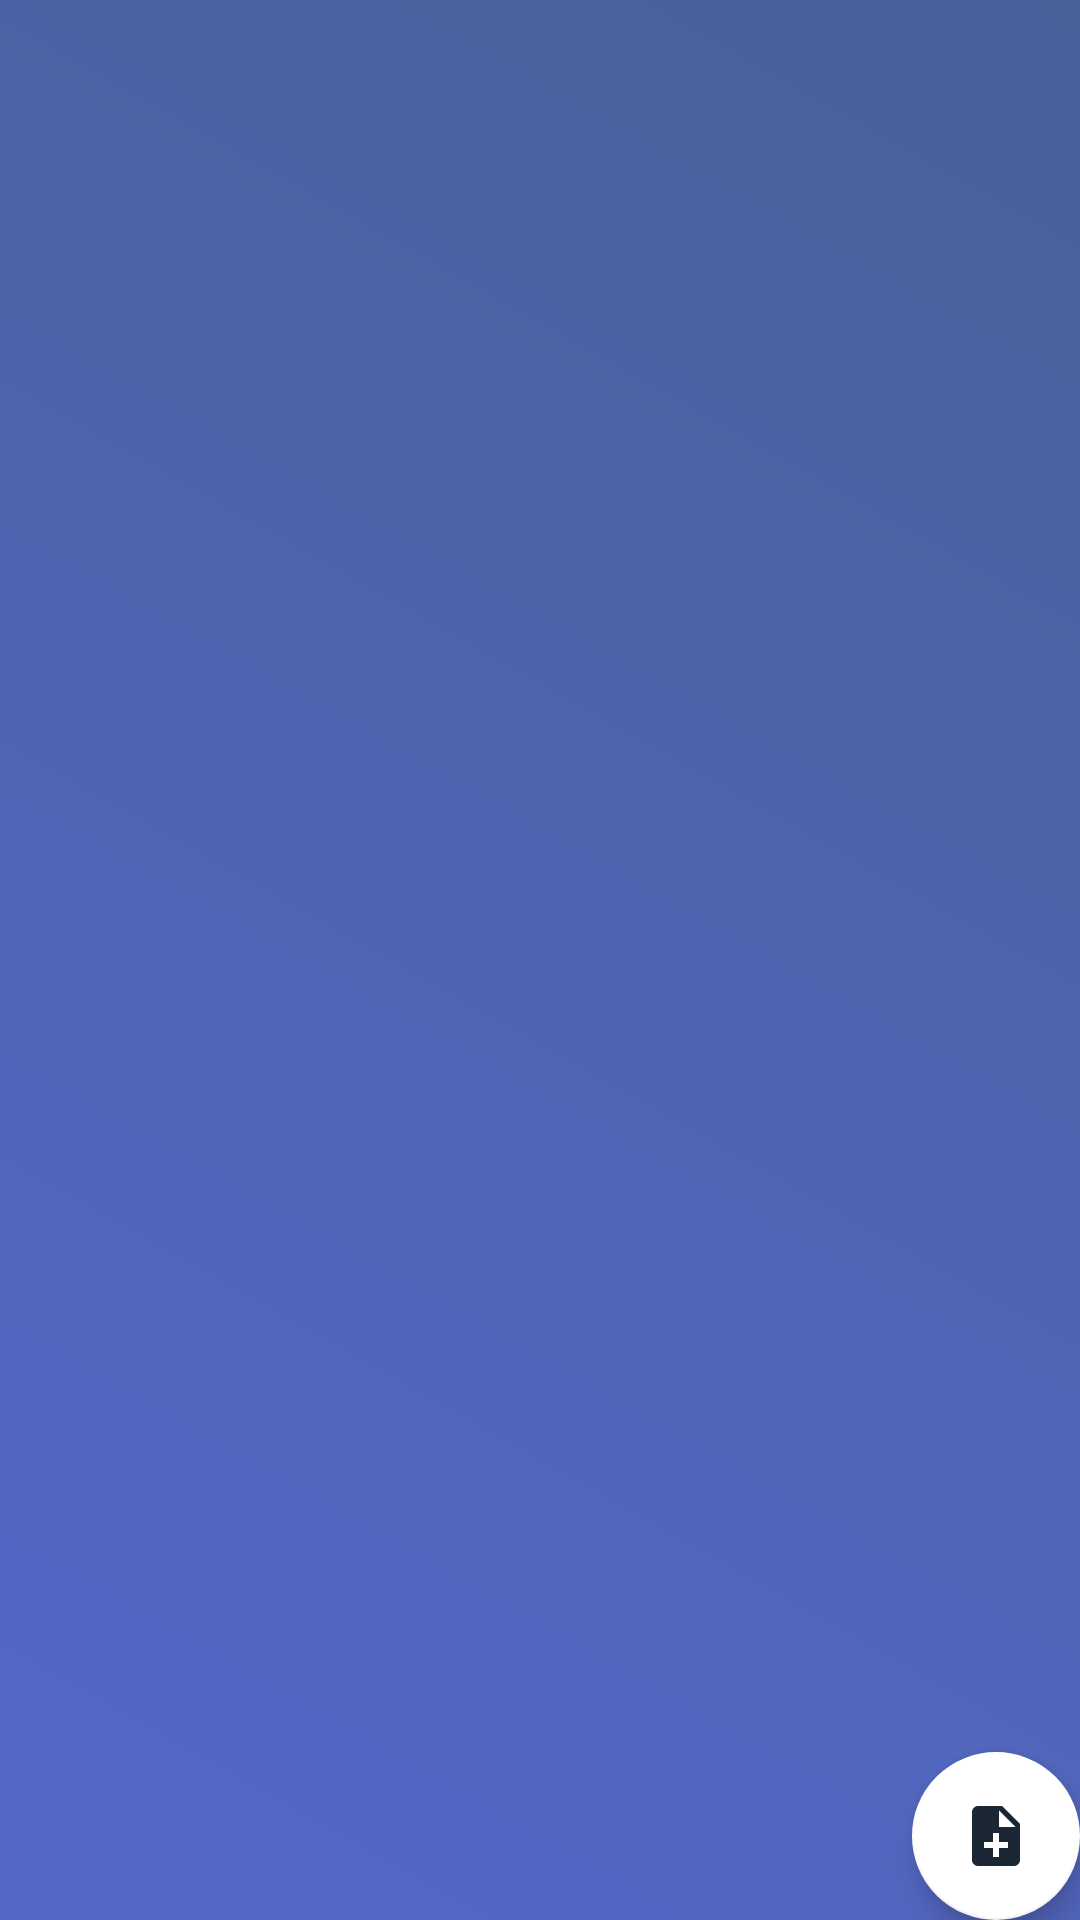

Icons on this 1080x1920 Android screen, each with its box as [x1=x1, y1=y1, x2=x2, y2=y2]:
note add: [x1=912, y1=1752, x2=1080, y2=1920]
